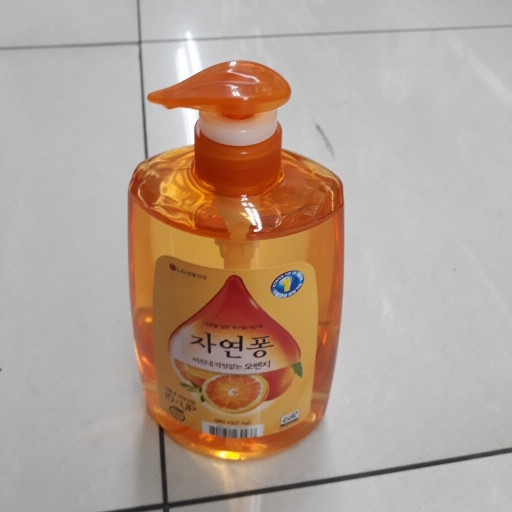Plastic_3: (124, 60, 346, 463)
